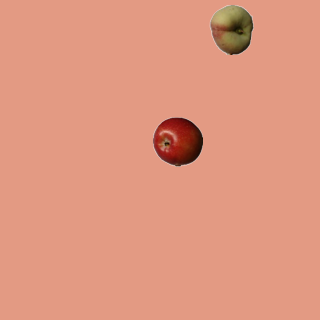Apple Braeburn: (152, 116, 202, 166)
Peach Flat: (206, 4, 256, 54)
